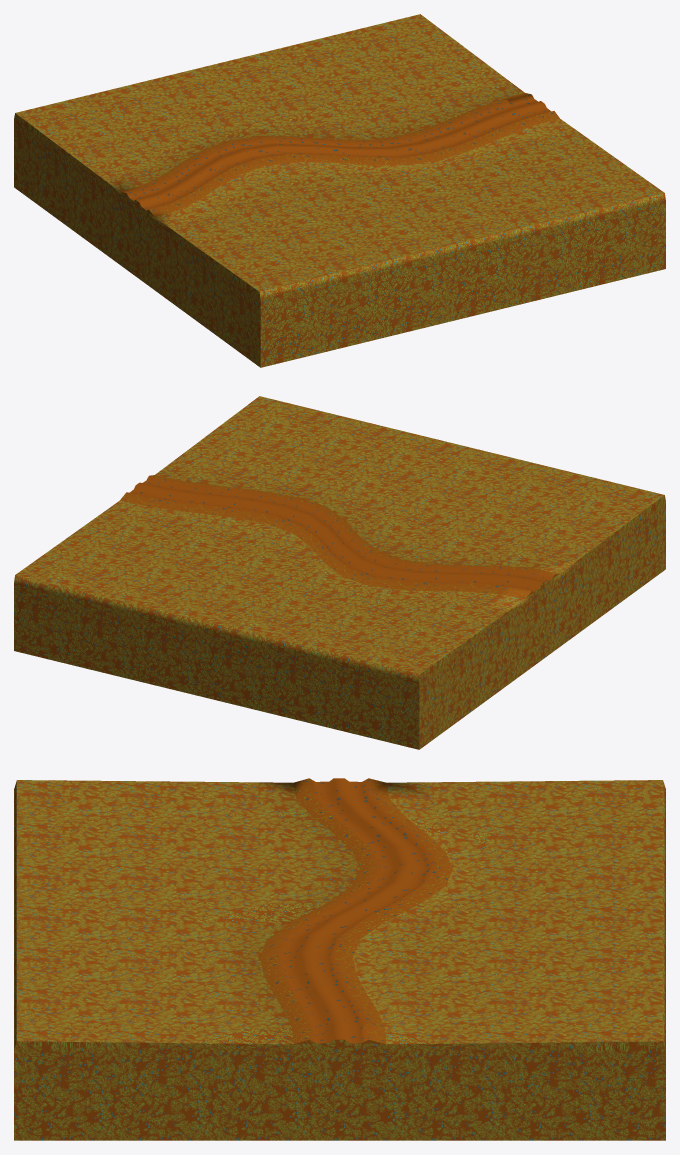
File: Road_grooves_Slight_Bend .fbx
3 views of the same model, one above another, from view 1: azimuth 30°, elevation 25°; view 2: azimuth 150°, elevation 25°; view 3: azimuth 270°, elevation 25° (orthographic). The views are drawn at different scales.
Visible parts, largest first — view 1: Mesh_Path_SlightBend; view 2: Mesh_Path_SlightBend; view 3: Mesh_Path_SlightBend.
Part boxes in pixels (<box>): Mesh_Path_SlightBend: <box>14,14,665,367</box>; Mesh_Path_SlightBend: <box>14,396,665,749</box>; Mesh_Path_SlightBend: <box>14,778,665,1140</box>.
Size of the model in its own units: 5588 by 1009 by 5890.
